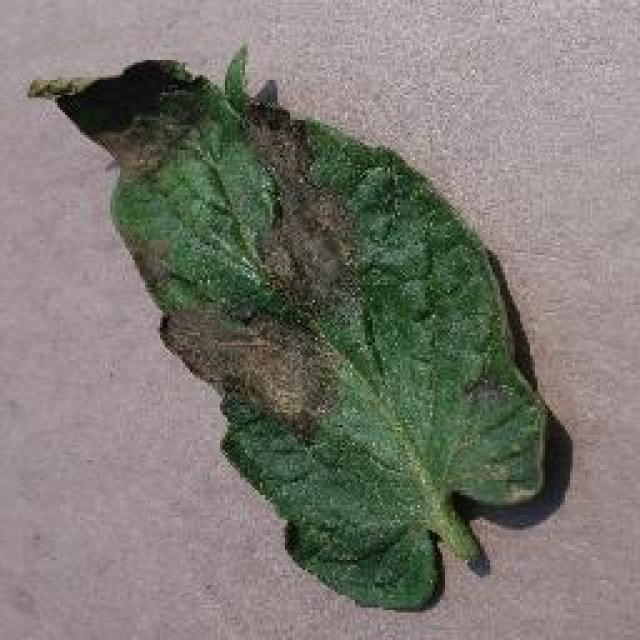Tomato late blight leaf: (28, 49, 552, 614)
